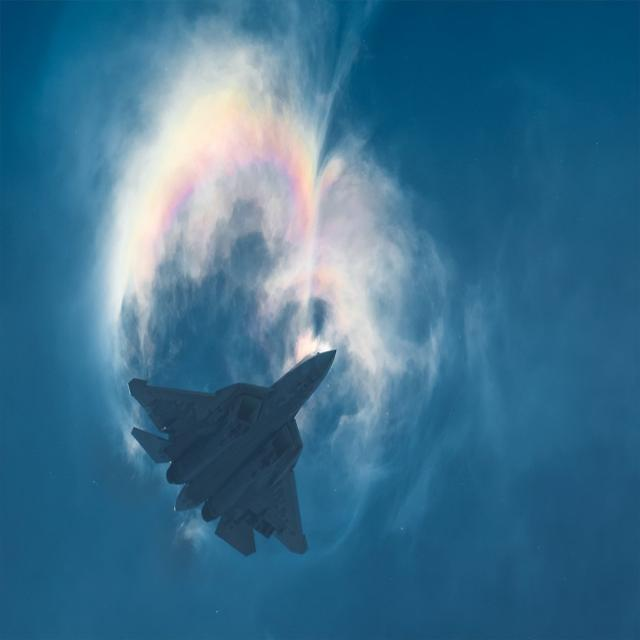MIL_Plane: (128, 348, 336, 558)
